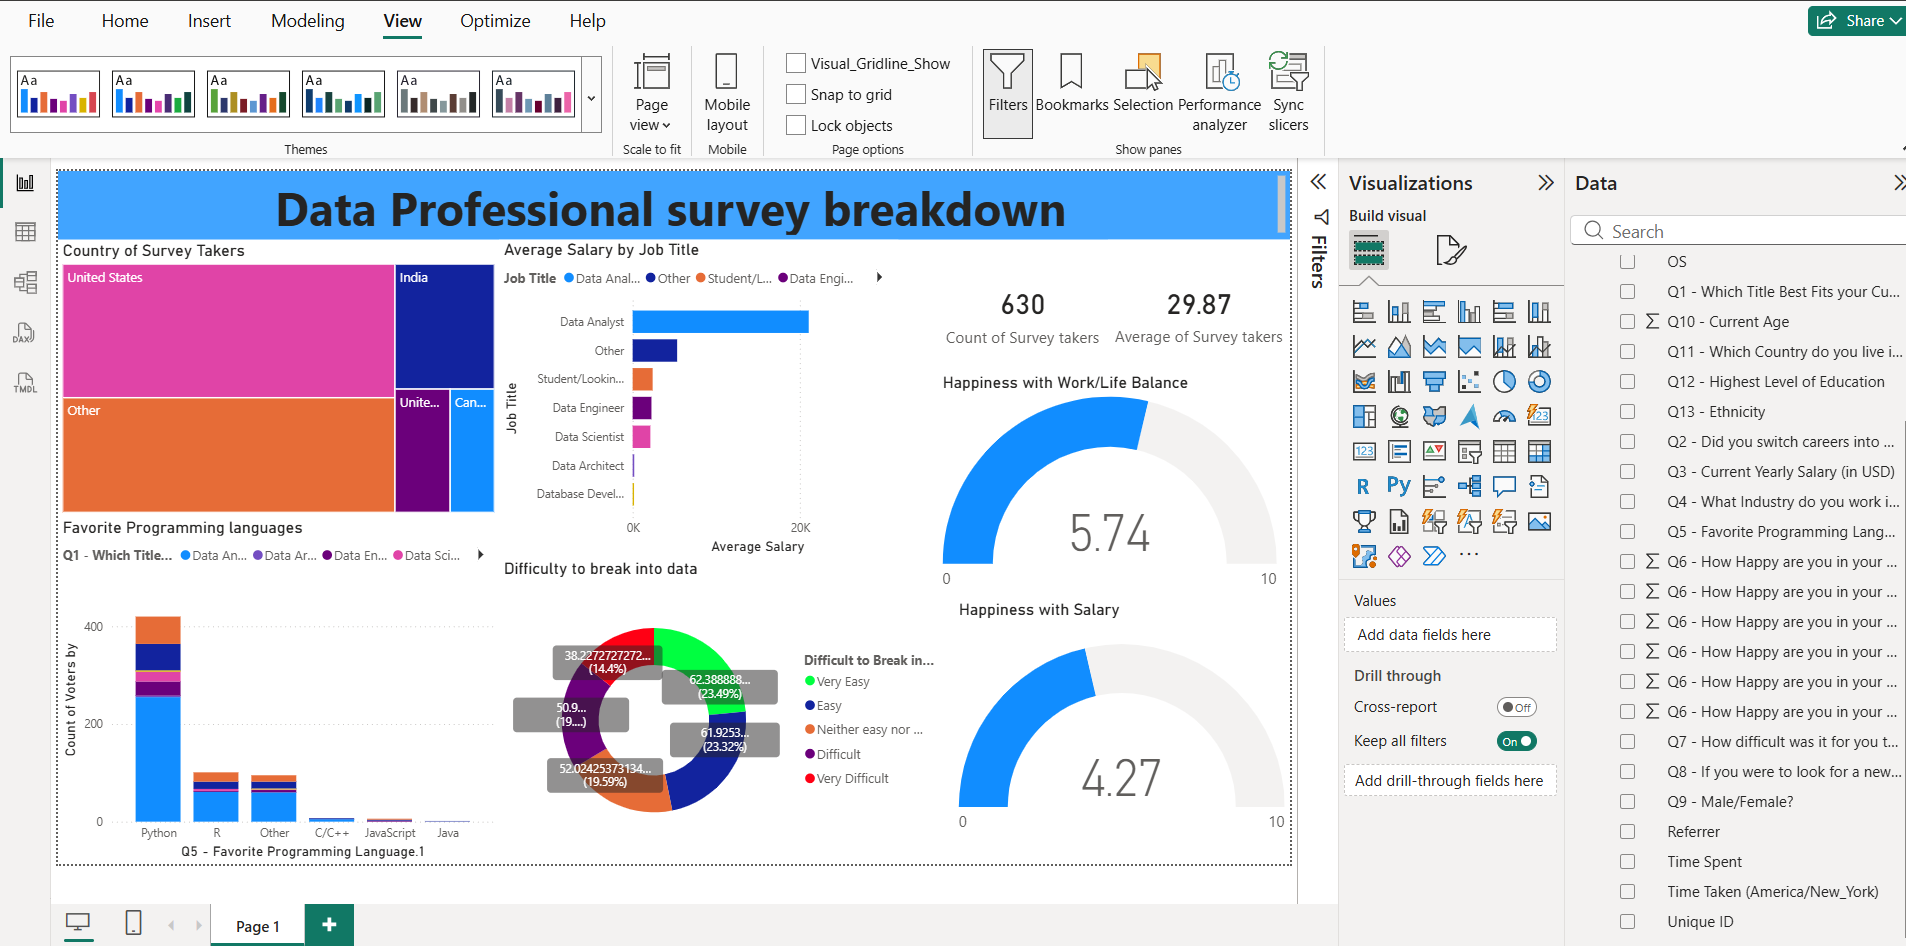

This screenshot's page, from the dashboard's own definition file:
{"tool":"powerbi","page":{"name":"Page 1","canvas":[1280,720],"ordinal":0},"visuals":[{"type":"textbox","box":[0,0,1280.3,71.4],"z":0},{"type":"card","fields":{"Values":["Count(Data Professional Survey.Unique ID)"]},"box":[914.7,72.3,176.3,150.3],"z":1000},{"type":"card","fields":{"Values":["Avg(Data Professional Survey.Q10 - Current Age)"]},"box":[1091,70.8,189.3,151.7],"z":2000},{"type":"barChart","title":"Average Salary by Job Title","fields":{"Category":["Data Professional Survey.Q1 - Which Title Best Fits your Current Role?.1"],"Y":["Sum(Data Professional Survey.Average Salary)"],"Series":["Data Professional Survey.Q1 - Which Title Best Fits your Current Role?.1"]},"box":[458.6,71.4,414.3,331.4],"z":3000},{"type":"columnChart","title":"Favorite Programming languages","fields":{"Category":["Data Professional Survey.Q5 - Favorite Programming Language.1"],"Y":["CountNonNull(Data Professional Survey.Unique ID)"],"Series":["Data Professional Survey.Q1 - Which Title Best Fits your Current Role?.1"]},"box":[0,360,458.6,360],"z":4000},{"type":"treemap","title":"Country of Survey Takers","fields":{"Group":["Data Professional Survey.Q11 - Which Country do you live in?.1"],"Values":["CountNonNull(Data Professional Survey.Q11 - Which Country do you live in?.1)"]},"box":[0,72.9,458.6,287.1],"z":5000},{"type":"gauge","title":"Happiness with Work/Life Balance","fields":{"Y":["Avg(Data Professional Survey.Q6 - How Happy are you in your Current Position with the following? (Work/Life Balance))"],"MinValue":["Min(Data Professional Survey.Q6 - How Happy are you in your Current Position with the following? (Work/Life Balance))1"],"MaxValue":["Max(Data Professional Survey.Q6 - How Happy are you in your Current Position with the following? (Work/Life Balance))2"]},"box":[914.3,208.6,357.1,237.1],"z":6000},{"type":"gauge","title":"Happiness with Salary","fields":{"Y":["Avg(Data Professional Survey.Q6 - How Happy are you in your Current Position with the following? (Salary))"],"MinValue":["Min(Data Professional Survey.Q6 - How Happy are you in your Current Position with the following? (Salary))"],"MaxValue":["Max(Data Professional Survey.Q6 - How Happy are you in your Current Position with the following? (Salary))"]},"box":[931.4,445.7,348.6,274.3],"z":7000},{"type":"donutChart","title":"Difficulty to break into data","fields":{"Category":["Data Professional Survey.Q7 - How difficult was it for you to break into Data?"],"Y":["Avg(Data Professional Survey.Average Salary)"]},"box":[458.6,402.9,455.7,317.1],"z":7001}]}

Visuals, with their boxes on the page's 1280x720 design canvas (x1, y1, x2, y2). These are canvas units, not pixel positions in the 1906x946 screenshot, which may show the page scaled, cropped or inside an application window:
textbox: box(0, 0, 1280, 71)
card - Count(Data Professional Survey.Unique ID): box(915, 72, 1091, 223)
card - Avg(Data Professional Survey.Q10 - Current Age): box(1091, 71, 1280, 222)
"Average Salary by Job Title" barChart: box(459, 71, 873, 403)
"Favorite Programming languages" columnChart: box(0, 360, 459, 720)
"Country of Survey Takers" treemap: box(0, 73, 459, 360)
"Happiness with Work/Life Balance" gauge: box(914, 209, 1271, 446)
"Happiness with Salary" gauge: box(931, 446, 1280, 720)
"Difficulty to break into data" donutChart: box(459, 403, 914, 720)
